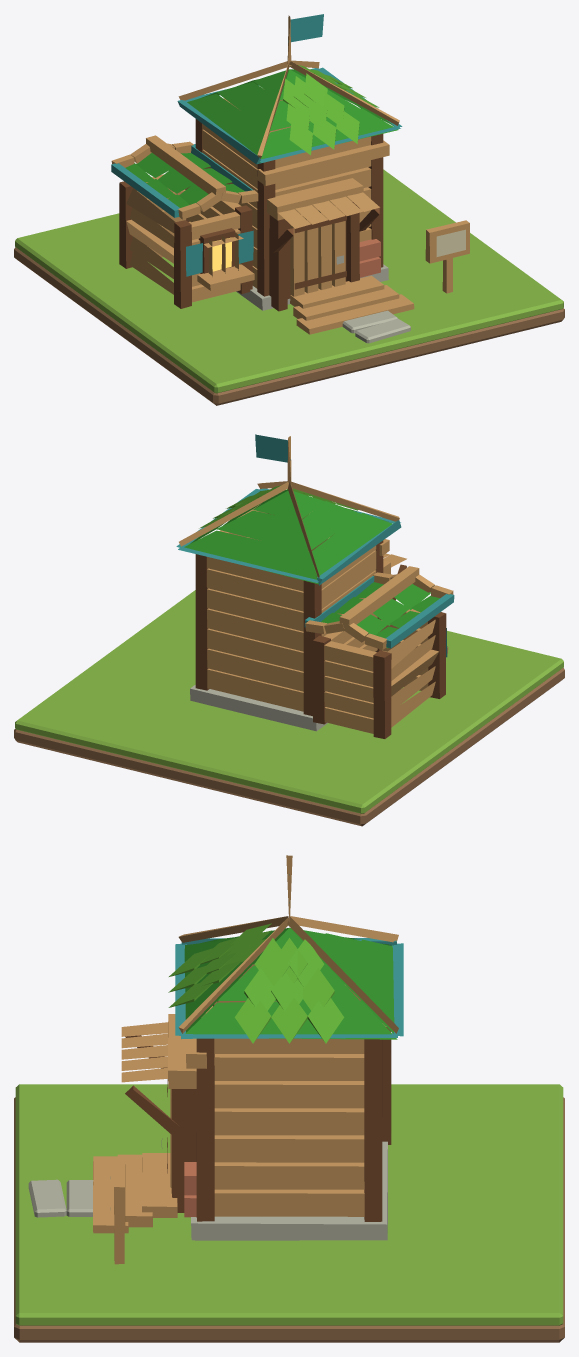
File: town_hall_l03_active_LOD2.glb
3 views of the same model, one above another, from view 1: azimuth 30°, elevation 25°; view 2: azimuth 150°, elevation 25°; view 3: azimuth 270°, elevation 25° (orthographic). The views are drawn at different scales.
Visible parts, largest first — view 1: town_hall_l03_active_foundation.001, town_hall_l03_active_grass_tile.001, town_hall_l03_active_earth_tile.001, town_hall_l03_active_path_stone.005, town_hall_l03_active_path_stone.004; view 2: town_hall_l03_active_foundation.001, town_hall_l03_active_grass_tile.001, town_hall_l03_active_earth_tile.001; view 3: town_hall_l03_active_grass_tile.001, town_hall_l03_active_foundation.001, town_hall_l03_active_earth_tile.001, town_hall_l03_active_path_stone.005, town_hall_l03_active_path_stone.004.
Boxes of the visible parts, bbox=[...] form: town_hall_l03_active_foundation.001: bbox=[111, 14, 469, 334]; town_hall_l03_active_grass_tile.001: bbox=[15, 169, 563, 393]; town_hall_l03_active_earth_tile.001: bbox=[14, 247, 564, 405]; town_hall_l03_active_path_stone.005: bbox=[355, 318, 410, 343]; town_hall_l03_active_path_stone.004: bbox=[342, 310, 397, 333]; town_hall_l03_active_foundation.001: bbox=[176, 434, 454, 738]; town_hall_l03_active_grass_tile.001: bbox=[15, 590, 563, 813]; town_hall_l03_active_earth_tile.001: bbox=[14, 668, 564, 826]; town_hall_l03_active_grass_tile.001: bbox=[15, 1084, 563, 1325]; town_hall_l03_active_foundation.001: bbox=[93, 855, 403, 1264]; town_hall_l03_active_earth_tile.001: bbox=[14, 1097, 564, 1342]; town_hall_l03_active_path_stone.005: bbox=[28, 1179, 66, 1217]; town_hall_l03_active_path_stone.004: bbox=[66, 1180, 93, 1216].
Size of the model in its own units: 3.6 by 2.69 by 3.6.
